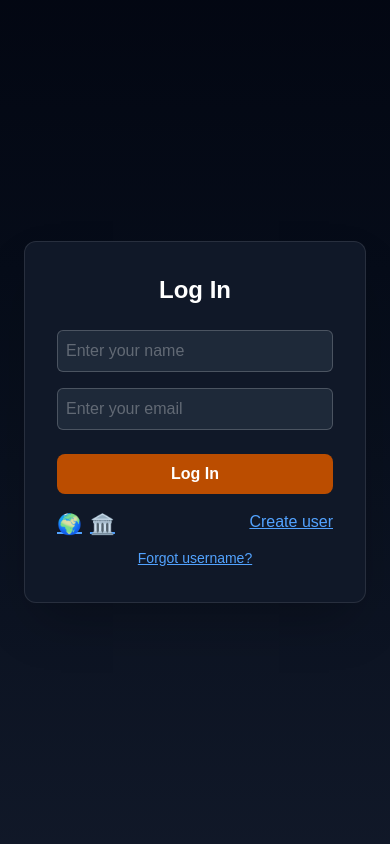
Test: LoginPage › switches to the verification-code view when requires_code is true
Step 1. Type "Alice" into the field with placeholder "Enter your name" → (195, 351), box [57,330,333,372]
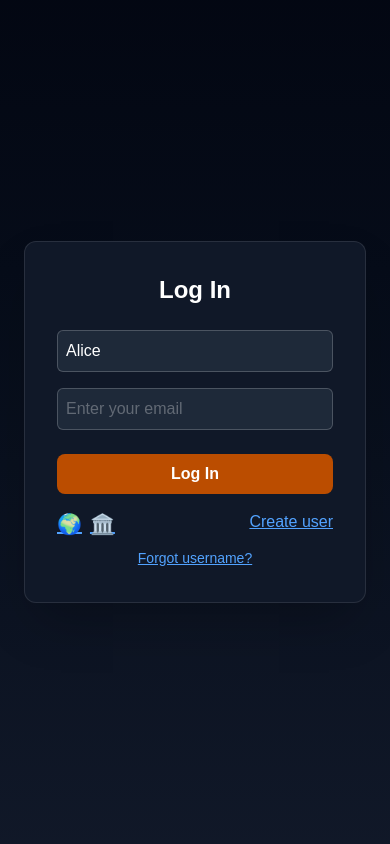
Step 2. Type "alice@example.com" into the field with placeholder "Enter your email" → (195, 409), box [57,388,333,430]
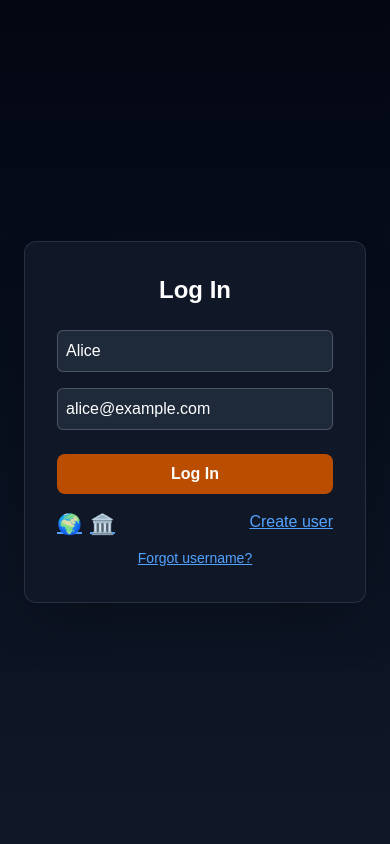
Step 3. Click the button "Log In" → (195, 474), box [57,454,333,494]
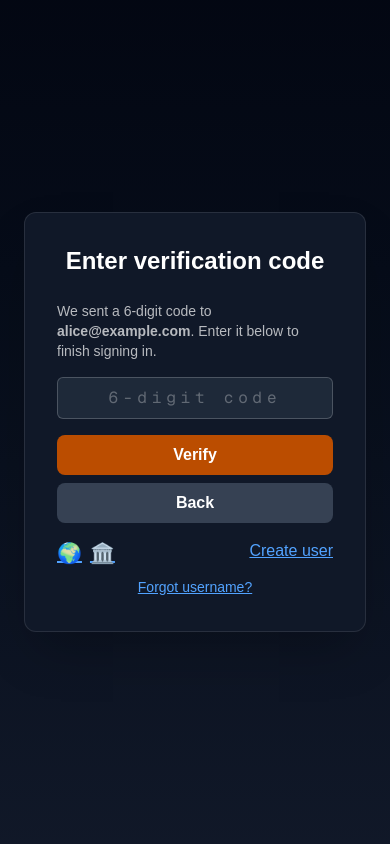
Check: the heading "Enter verification code" is shown, box [57,245,333,277]
Check: the field with placeholder "6-digit code" is shown, box [57,377,333,419]
